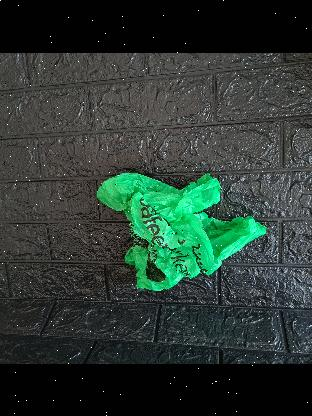Others: (92, 165, 268, 299)
